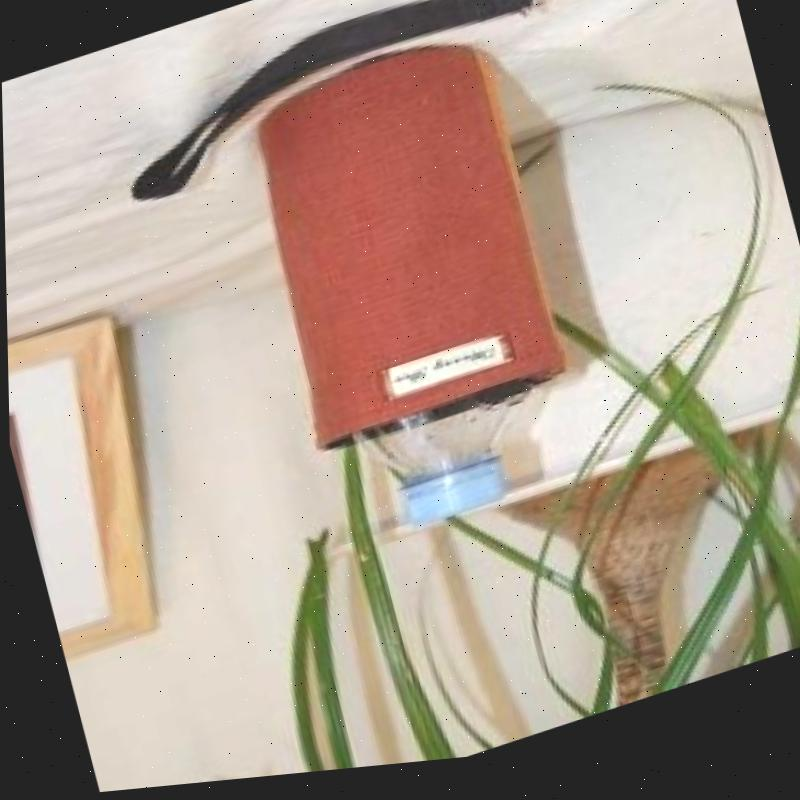botella: (337, 386, 559, 550)
